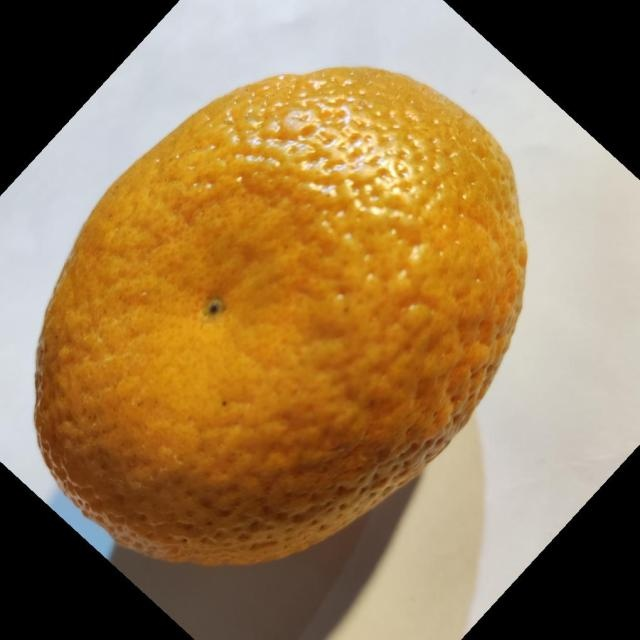agrume: (32, 64, 528, 567)
